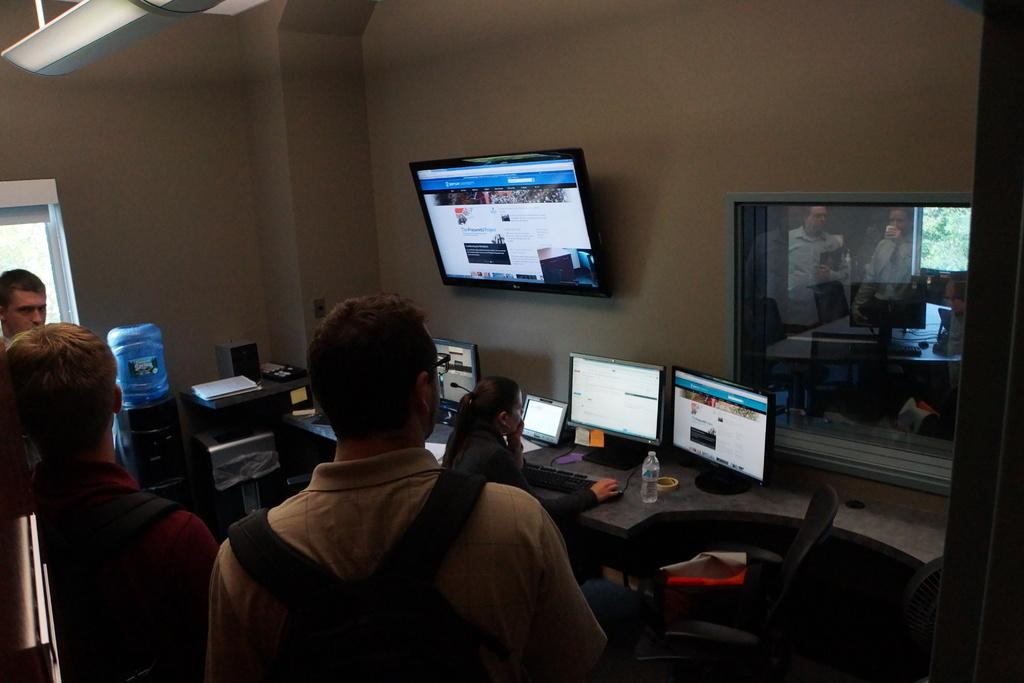Chair: (631, 482, 840, 681)
Computer-monitor: (405, 144, 614, 300)
